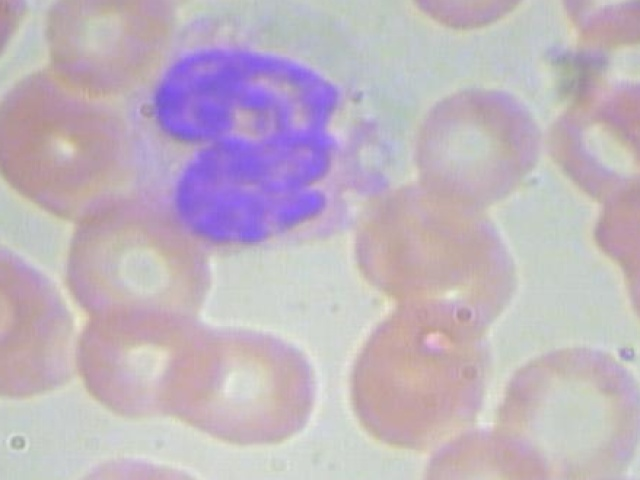RBC: (45, 184, 221, 343), (332, 305, 492, 453), (483, 331, 640, 480), (154, 321, 321, 459), (58, 306, 232, 426), (398, 76, 553, 202), (42, 0, 183, 96), (407, 424, 557, 480), (388, 0, 543, 37), (586, 174, 640, 280), (541, 0, 640, 44), (0, 0, 34, 91)
WBC: (111, 0, 410, 273)
